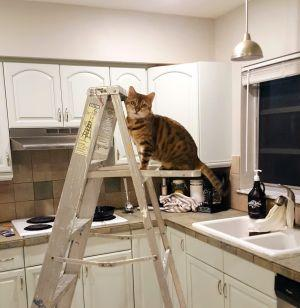bengal: (115, 83, 161, 125)
